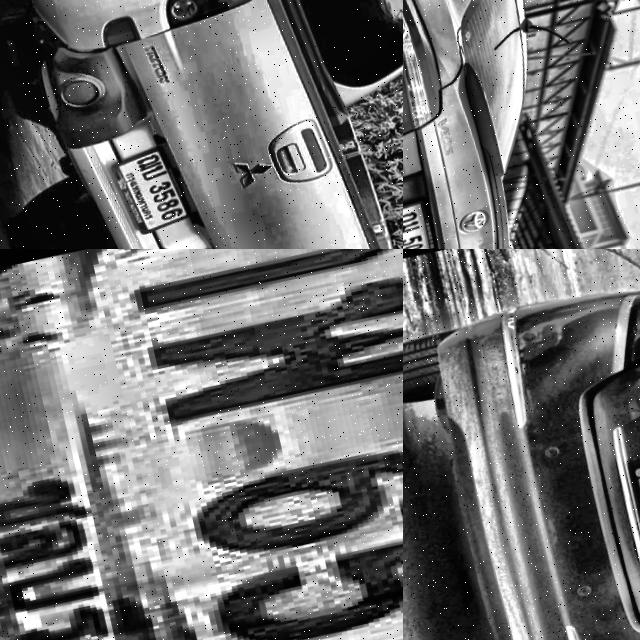license-plate: (0, 249, 403, 640), (104, 138, 195, 243), (403, 191, 455, 249)
